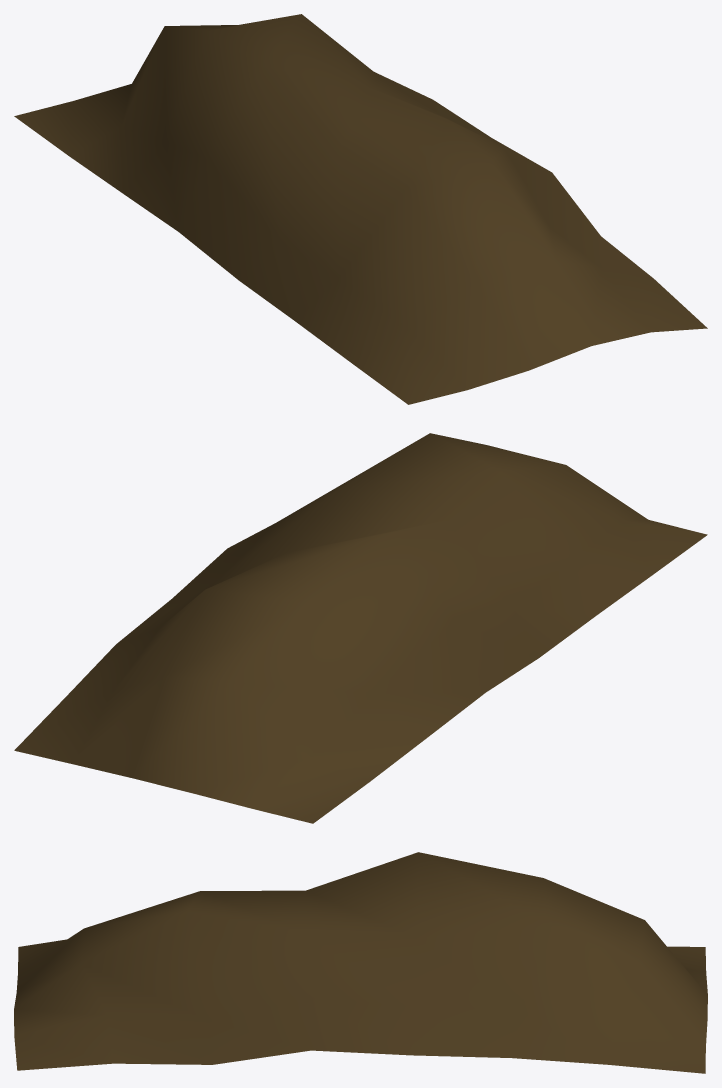
The model's file is horizon_Mountain_1.fbx.
3 renders of one model, top to bottom at view 1: azimuth 30°, elevation 25°; view 2: azimuth 150°, elevation 25°; view 3: azimuth 270°, elevation 25°, orthographic. The views are drawn at different scales.
Visible parts, largest first — view 1: pPlane1; view 2: pPlane1; view 3: pPlane1.
Boxes of the visible parts, x1,y1,x2,y2 form: pPlane1: (14, 14, 707, 404); pPlane1: (14, 433, 707, 823); pPlane1: (14, 852, 707, 1073).
Size of the model in its own units: 92.38 by 41.96 by 202.
